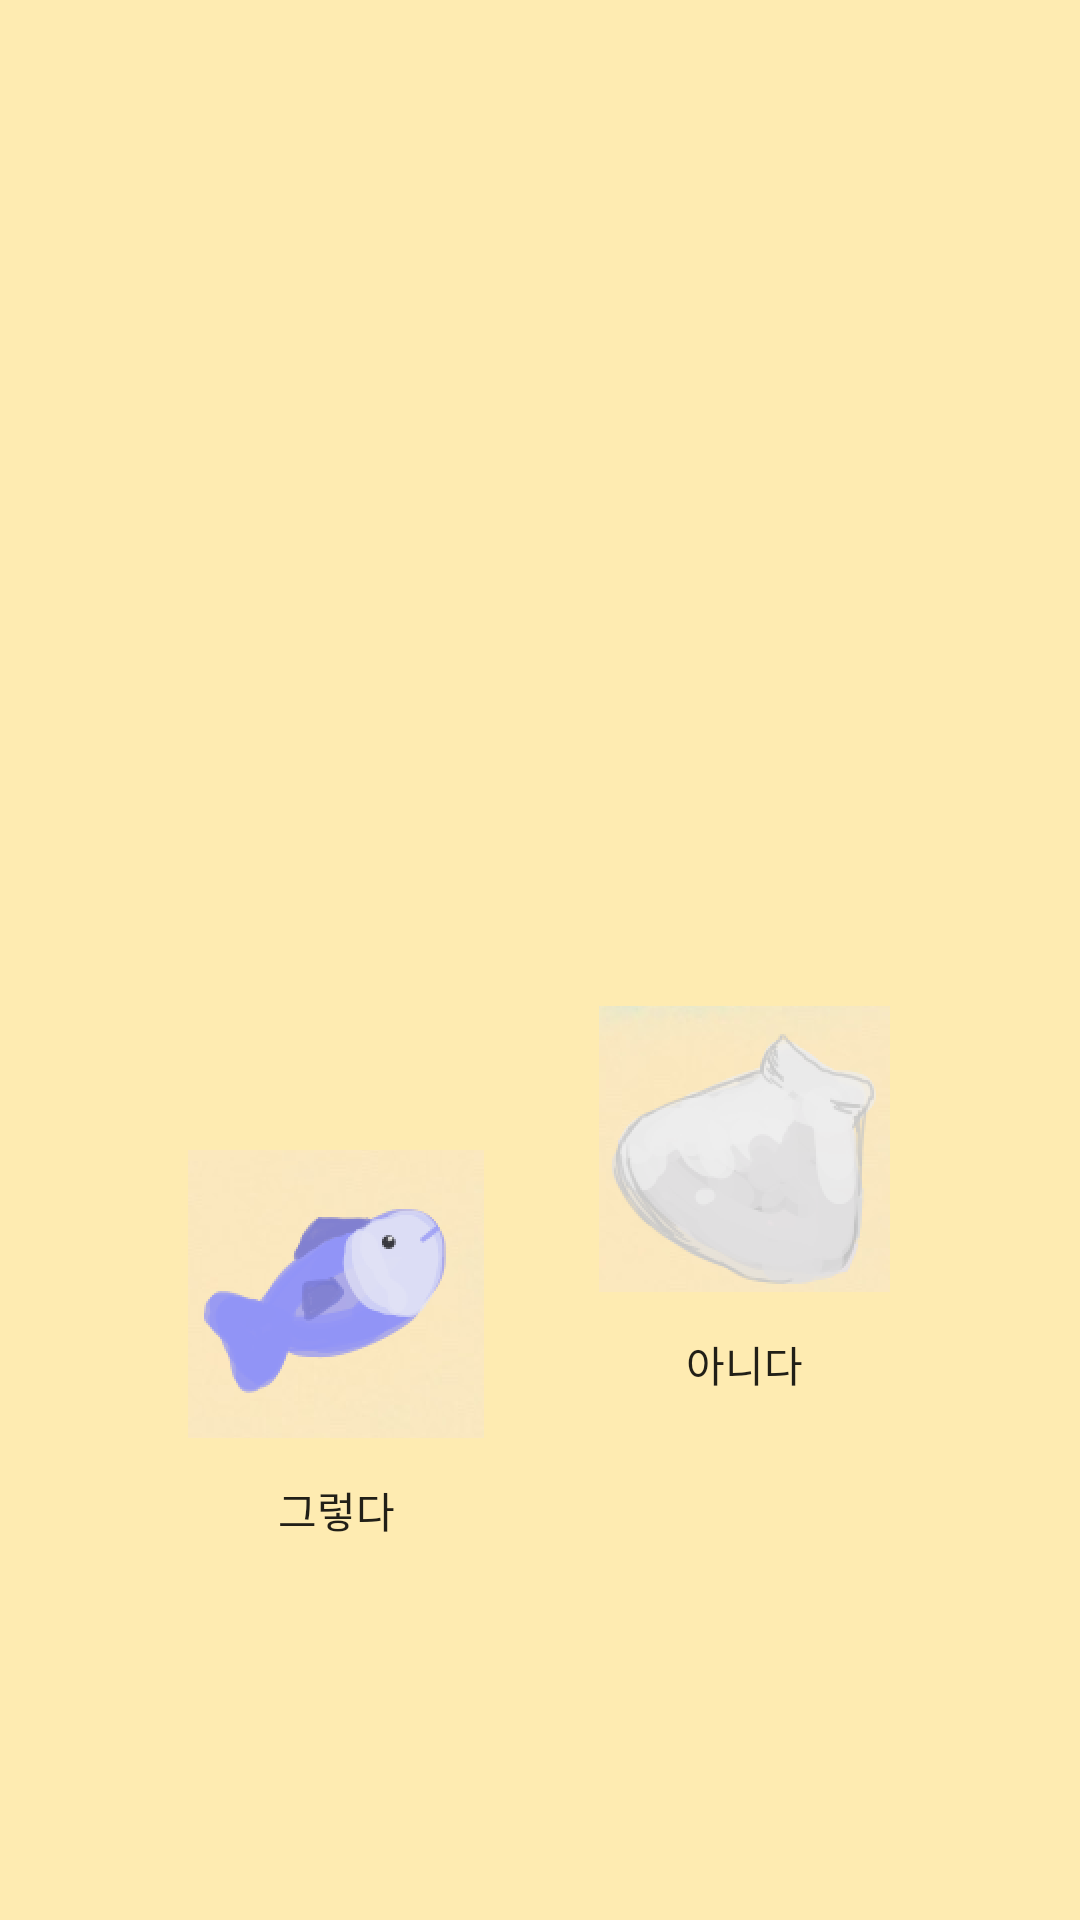

Named icons in this screenshot (1080 x 1920) and their centers, [x,y]:
fish: [325,1301]
